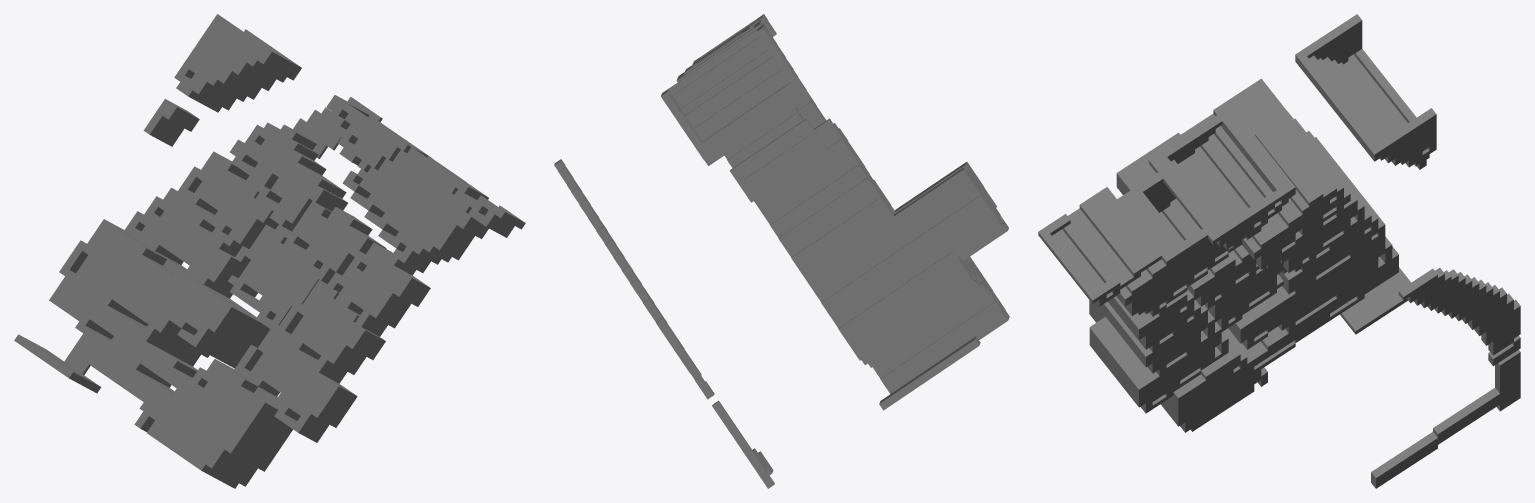
The model's file is tile_3_3.glb.
The picture shows the model from 3 angles, left to right: view 1: azimuth 30°, elevation 25°; view 2: azimuth 150°, elevation 25°; view 3: azimuth 270°, elevation 25°; orthographic projection. The views are drawn at different scales.
Parts seen in each view (by area): view 1: universal_minecraft:terracotta:up, universal_minecraft:concrete:up, universal_minecraft:stone_bricks:north, universal_minecraft:stone_bricks:up, universal_minecraft:concrete:north, universal_minecraft:stone_bricks:west, universal_minecraft:stained_terracotta:up, universal_minecraft:concrete:west; view 2: universal_minecraft:stone_bricks:south, universal_minecraft:concrete:south, universal_minecraft:stone_bricks:west, universal_minecraft:terracotta:up, universal_minecraft:concrete:up, universal_minecraft:stone_bricks:up, universal_minecraft:terracotta:south, universal_minecraft:grass_block:south, universal_minecraft:concrete:west; view 3: universal_minecraft:concrete:west, universal_minecraft:stone_bricks:west, universal_minecraft:grass_block:down, universal_minecraft:concrete:down, universal_minecraft:stone_bricks:down, universal_minecraft:concrete:north, universal_minecraft:stone_bricks:north, universal_minecraft:terracotta:down, universal_minecraft:grass_block:west, universal_minecraft:terracotta:west, universal_minecraft:stained_terracotta:down, universal_minecraft:stained_terracotta:west.
Boxes of the visible parts, left/top/right/bottom form: universal_minecraft:terracotta:up: left=59, top=14, right=459, bottom=466; universal_minecraft:concrete:up: left=64, top=95, right=504, bottom=410; universal_minecraft:stone_bricks:north: left=69, top=52, right=488, bottom=488; universal_minecraft:stone_bricks:up: left=14, top=48, right=470, bottom=470; universal_minecraft:concrete:north: left=83, top=105, right=525, bottom=377; universal_minecraft:stone_bricks:west: left=20, top=49, right=467, bottom=421; universal_minecraft:stained_terracotta:up: left=342, top=103, right=395, bottom=157; universal_minecraft:concrete:west: left=233, top=95, right=524, bottom=361; universal_minecraft:stone_bricks:south: left=668, top=29, right=1007, bottom=410; universal_minecraft:concrete:south: left=554, top=15, right=825, bottom=488; universal_minecraft:stone_bricks:west: left=663, top=24, right=1004, bottom=403; universal_minecraft:terracotta:up: left=749, top=25, right=1009, bottom=319; universal_minecraft:concrete:up: left=560, top=14, right=826, bottom=484; universal_minecraft:stone_bricks:up: left=749, top=24, right=1009, bottom=345; universal_minecraft:terracotta:south: left=757, top=28, right=1007, bottom=319; universal_minecraft:grass_block:south: left=661, top=59, right=744, bottom=183; universal_minecraft:concrete:west: left=554, top=14, right=810, bottom=454; universal_minecraft:concrete:west: left=1038, top=106, right=1520, bottom=477; universal_minecraft:stone_bricks:west: left=1089, top=49, right=1429, bottom=405; universal_minecraft:grass_block:down: left=1099, top=114, right=1436, bottom=427; universal_minecraft:concrete:down: left=1050, top=187, right=1520, bottom=488; universal_minecraft:stone_bricks:down: left=1125, top=143, right=1436, bottom=432; universal_minecraft:concrete:north: left=1038, top=121, right=1513, bottom=488; universal_minecraft:stone_bricks:north: left=1089, top=53, right=1429, bottom=432; universal_minecraft:terracotta:down: left=1143, top=20, right=1362, bottom=212; universal_minecraft:grass_block:west: left=1095, top=108, right=1436, bottom=372; universal_minecraft:terracotta:west: left=1138, top=14, right=1361, bottom=191; universal_minecraft:stained_terracotta:down: left=1167, top=121, right=1222, bottom=163; universal_minecraft:stained_terracotta:west: left=1162, top=115, right=1221, bottom=156.
Size of the model in its own units: 59.79 by 62.63 by 56.84.
27 materials, 27 textured.
